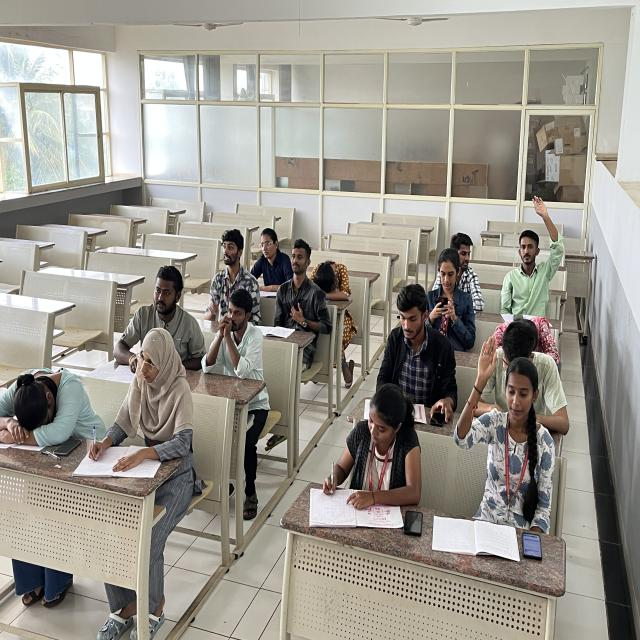Hand Rising: (447, 335, 568, 537), (498, 190, 567, 323)
Reading: (370, 276, 455, 428), (110, 264, 207, 384), (263, 236, 334, 358), (245, 227, 292, 304)
Sleeping: (1, 352, 108, 471), (506, 305, 578, 363), (312, 254, 362, 324)
Using Phone: (425, 247, 479, 348)
Writing: (84, 326, 200, 530), (312, 381, 423, 531)
